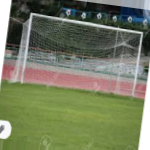goals: (13, 11, 145, 99)
